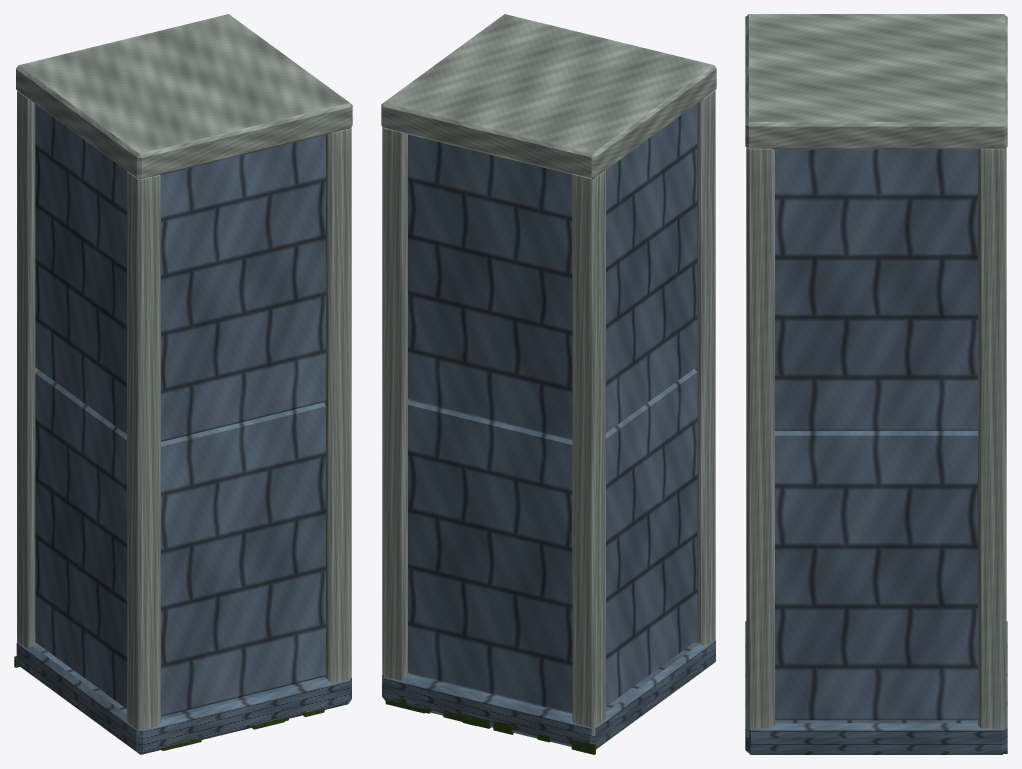
File: wall_corner.glb
3 views of the same model, side by side, from view 1: azimuth 30°, elevation 25°; view 2: azimuth 150°, elevation 25°; view 3: azimuth 270°, elevation 25° (orthographic). The views are drawn at different scales.
Parts seen in each view (by area): view 1: Architecture; view 2: Architecture; view 3: Architecture.
Boxes of the visible parts, <box> form: Architecture: <box>14,14,352,754</box>; Architecture: <box>381,14,716,754</box>; Architecture: <box>745,14,1007,754</box>.
Bounding box in the file's own units: 6 × 16 × 6.
Materials: 1 (1 with a texture image).
